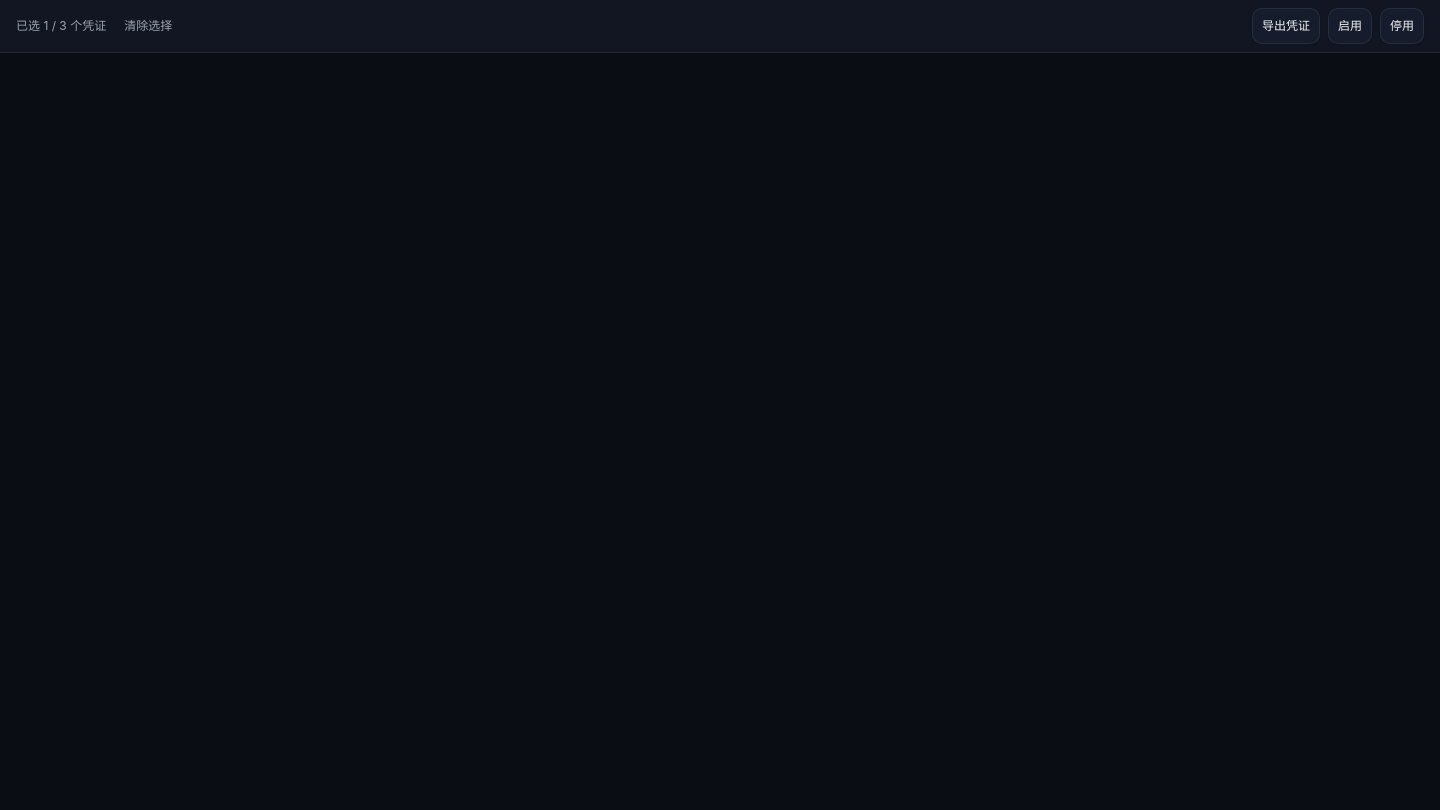
Scenario: offers native export for a single selected compatible credential even when networking is paused
This screenshot has width=1440, height=810.
Click the button "导出凭证": (1286, 26) left=1252, top=8, right=1320, bottom=44
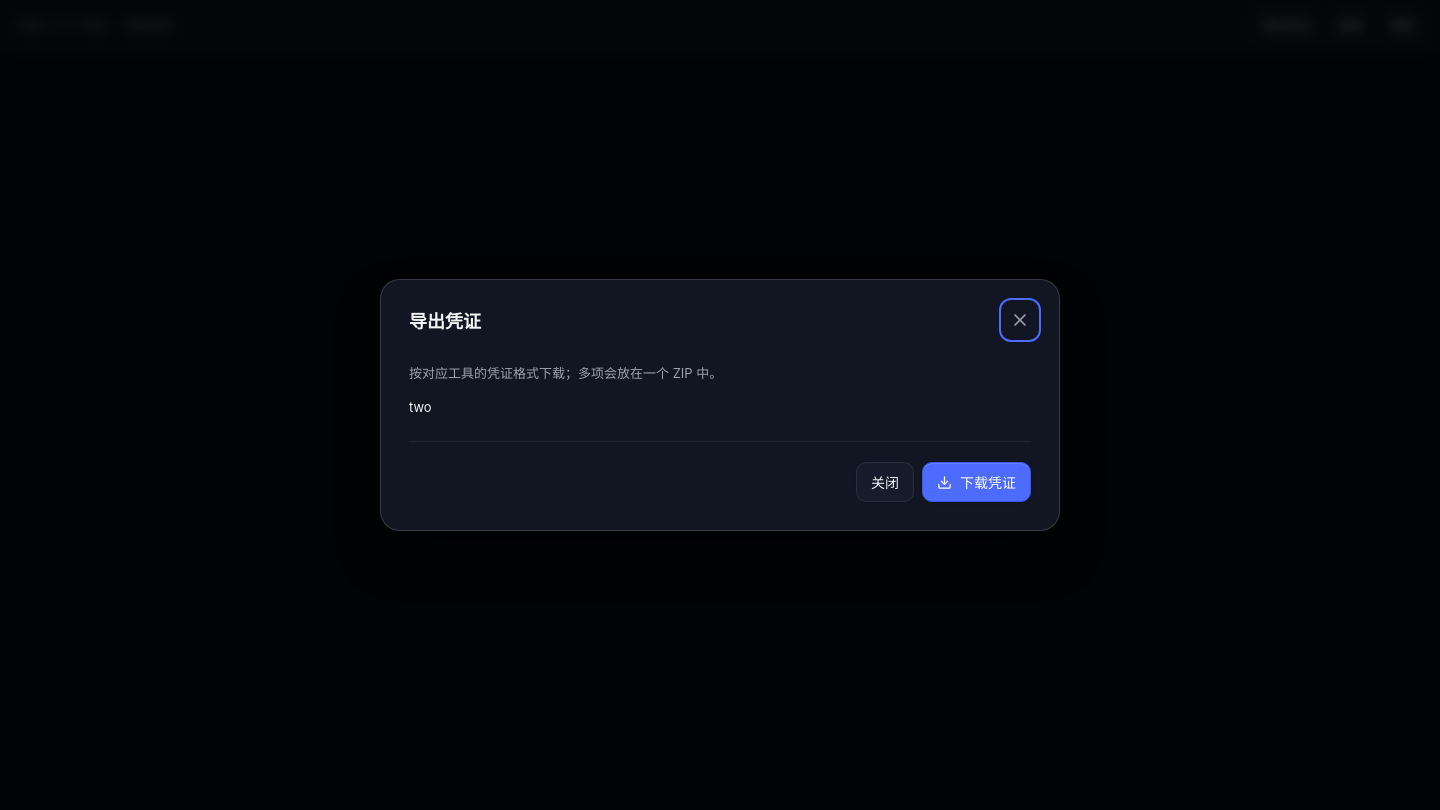
Now the dialog "导出凭证" is shown, box left=380, top=279, right=1060, bottom=531
